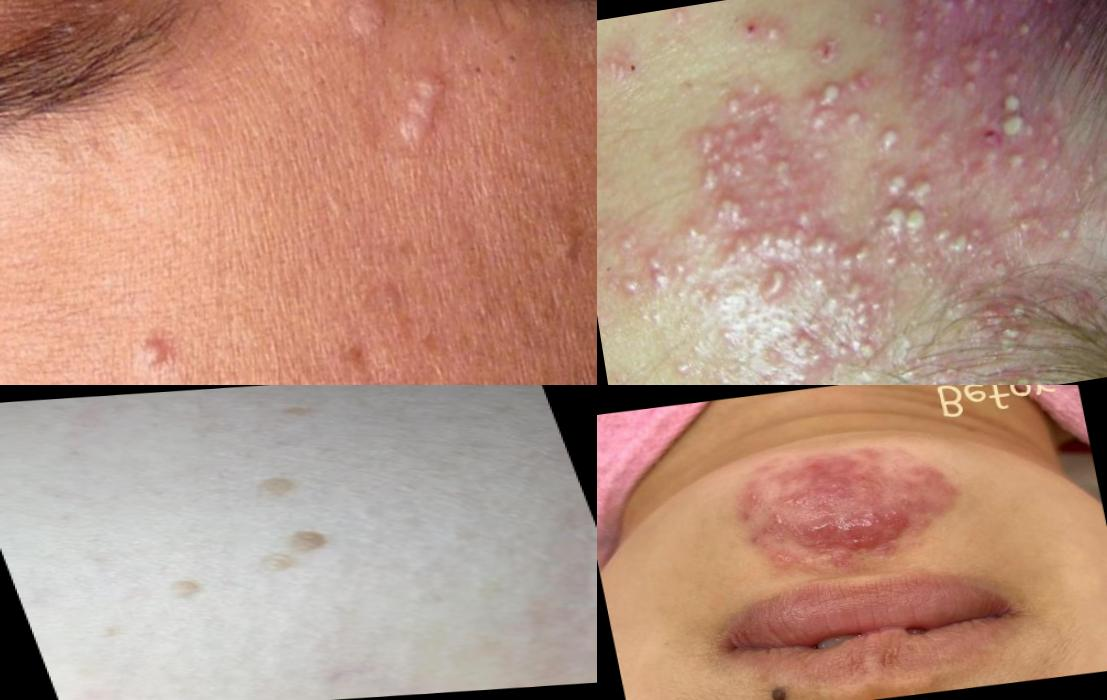blackhead: (497, 29, 545, 87), (459, 38, 497, 90)
flat_wart: (374, 60, 465, 166), (117, 299, 196, 380), (220, 460, 338, 508), (331, 1, 404, 49), (151, 568, 228, 613), (267, 524, 340, 556), (251, 555, 315, 583)
folliculitis: (983, 38, 1017, 73)
papular: (781, 504, 898, 558), (889, 465, 969, 522), (802, 451, 878, 500), (730, 473, 787, 517), (598, 41, 649, 90), (612, 263, 657, 313), (858, 1, 904, 41), (662, 6, 702, 41), (823, 549, 876, 574), (747, 517, 782, 549), (765, 554, 803, 582), (1005, 362, 1047, 386), (598, 98, 611, 139), (598, 147, 607, 181)
purulent: (683, 109, 760, 167), (981, 292, 1042, 362), (994, 198, 1060, 252), (1043, 212, 1095, 263), (866, 117, 918, 166), (928, 219, 980, 268), (832, 328, 886, 374), (632, 250, 682, 299), (782, 321, 830, 372), (839, 58, 891, 104), (608, 222, 651, 270), (798, 102, 843, 146), (672, 212, 714, 259), (763, 150, 807, 193), (710, 85, 753, 129), (835, 268, 881, 307), (842, 300, 884, 342), (1007, 8, 1053, 46), (1070, 149, 1107, 196), (908, 165, 949, 207), (996, 144, 1038, 185), (834, 102, 877, 141), (992, 107, 1034, 146), (814, 75, 853, 115), (994, 83, 1034, 120), (879, 168, 918, 204), (755, 15, 793, 51), (759, 266, 798, 301), (786, 199, 824, 234), (1086, 195, 1107, 242)
sebo-crystan-conglo: (712, 219, 820, 272), (806, 223, 874, 280), (688, 153, 762, 202), (874, 195, 941, 240), (701, 189, 758, 236), (910, 1, 989, 30), (950, 70, 994, 111), (983, 1, 1053, 24)
